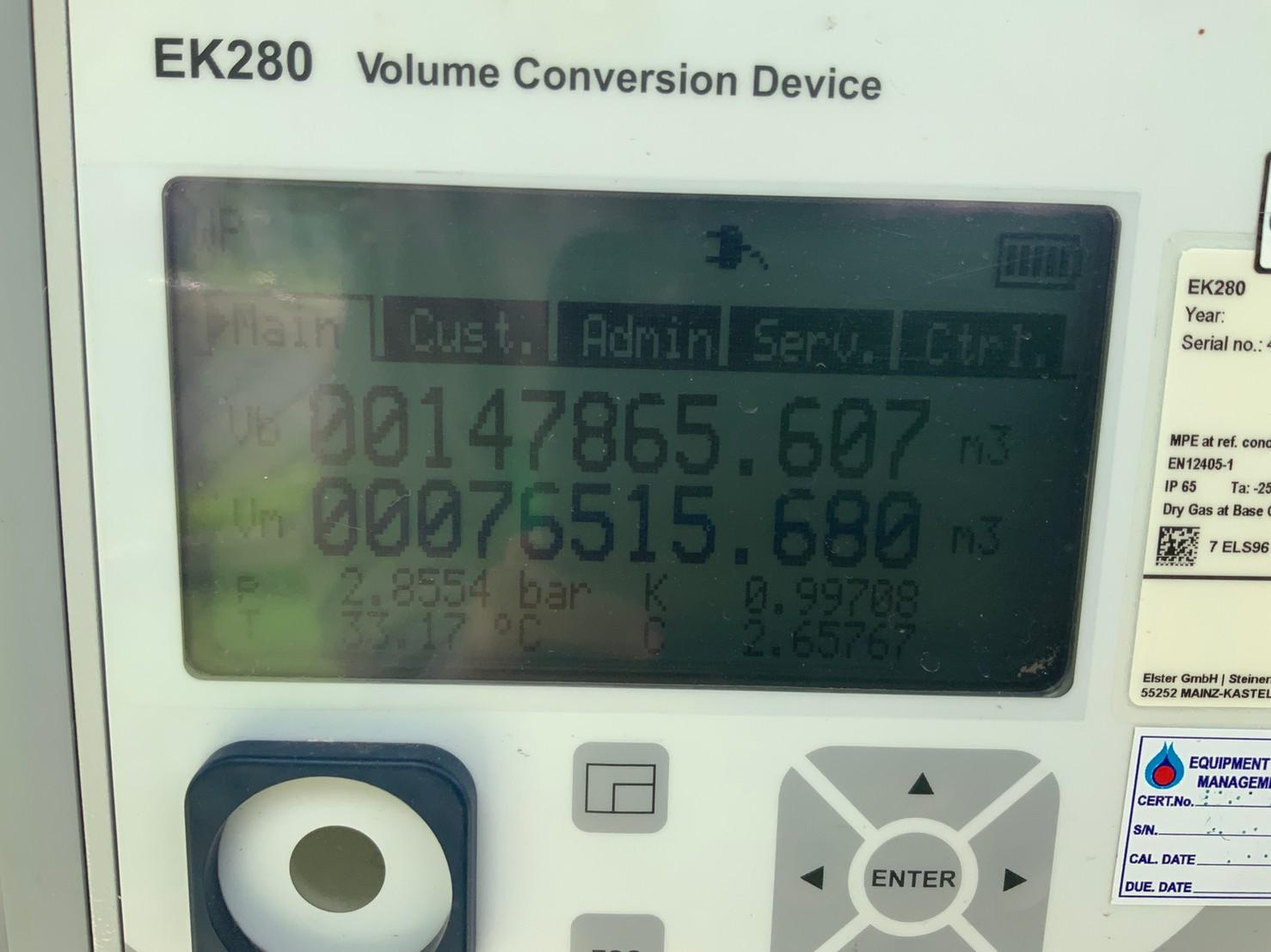digital_screen: (157, 186, 1120, 693)
